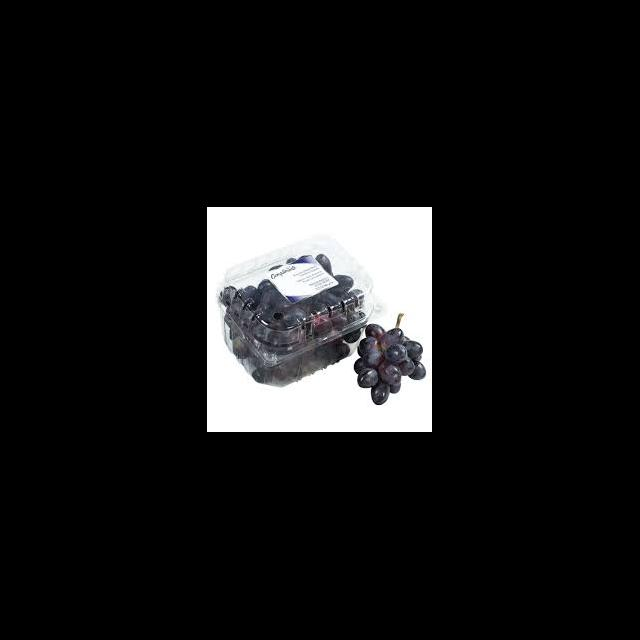grape: (354, 312, 426, 406)
